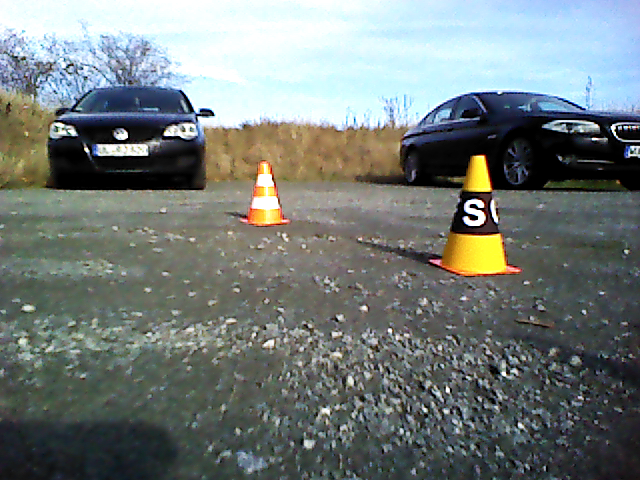orangeconesmall: (245, 160, 289, 228)
yellowcone: (445, 152, 507, 272)
